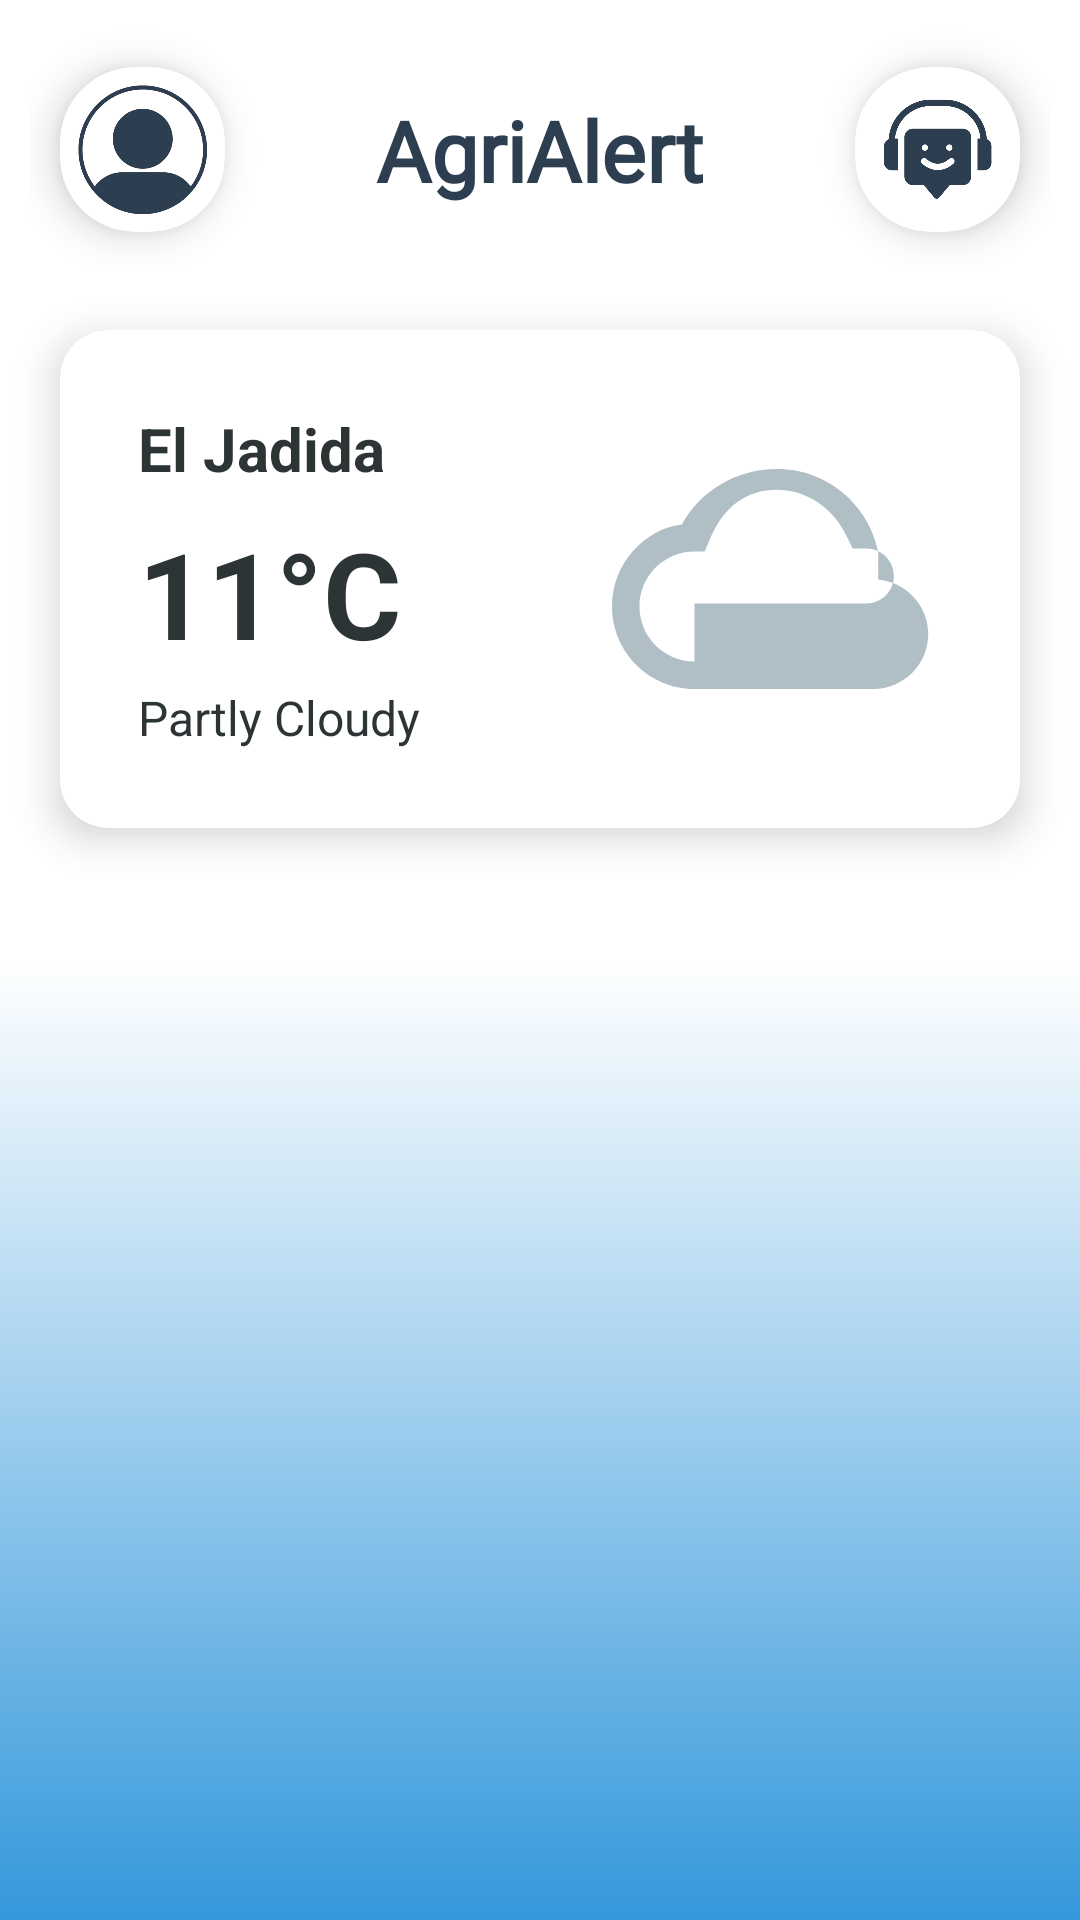

Icon bounding boxes for this 1080px×1920px phone screenshot, format bbox=(x1, y1, x2, y2):
Chatbot Icon: bbox=(884, 94, 1020, 232)
Profile Icon: bbox=(60, 85, 207, 232)
